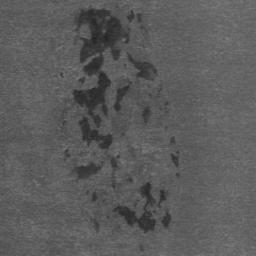Iron scale compression: (73, 9, 156, 189), (111, 184, 171, 231), (143, 107, 150, 124), (172, 153, 178, 166), (93, 219, 100, 230), (92, 193, 98, 204)
